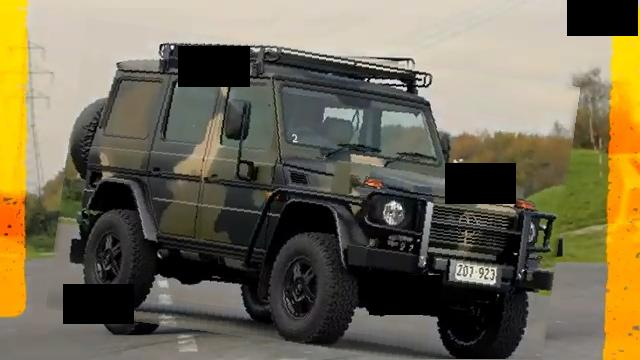MIL_HMMWV: (54, 34, 571, 360)
